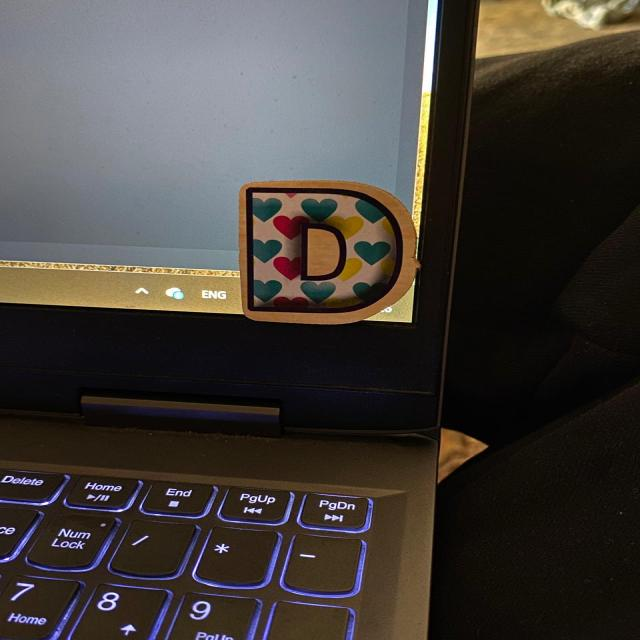D: (241, 182, 423, 324)
